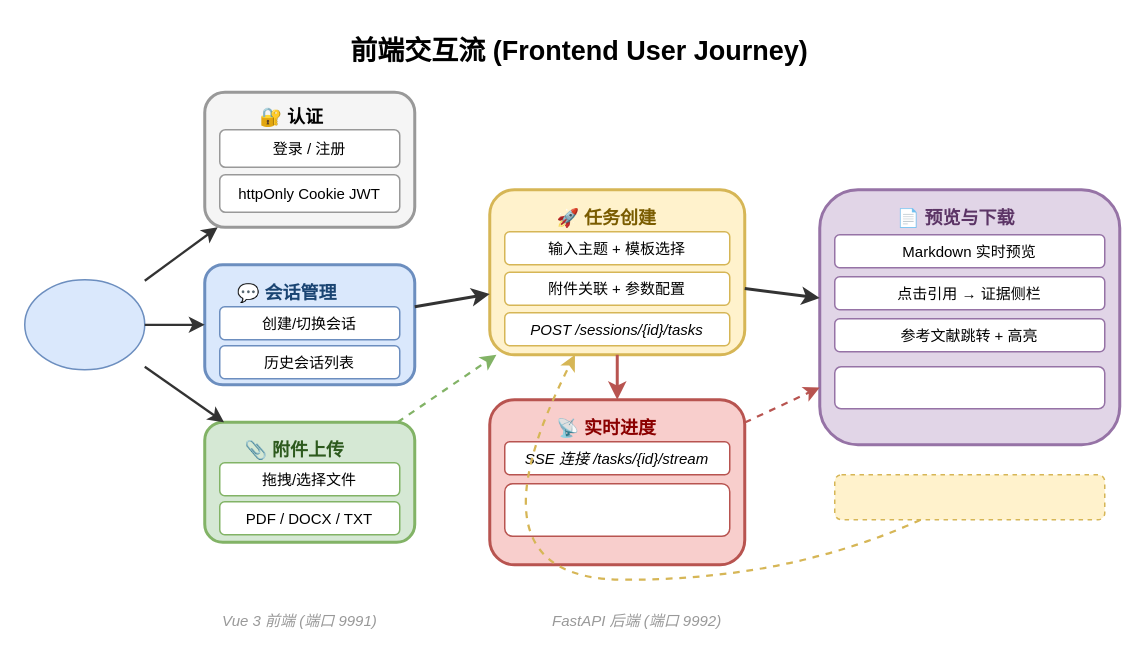
Some shapes in this 1145 by 654 pixel diagram are drawn without their labels. The shapes that lost their labels are listed below. From the top down, each one's box as (x1, y1, x2, y2) in pixels, then its label:
(23, 278, 145, 370): 👤 用户
(833, 365, 1105, 409): ⬇️ 下载 MD / DOCX
(503, 482, 730, 536): 阶段进度 + 章节完成 心跳 + 状态变更
(833, 473, 1105, 520): 🔄 重试 / 章节重生成
